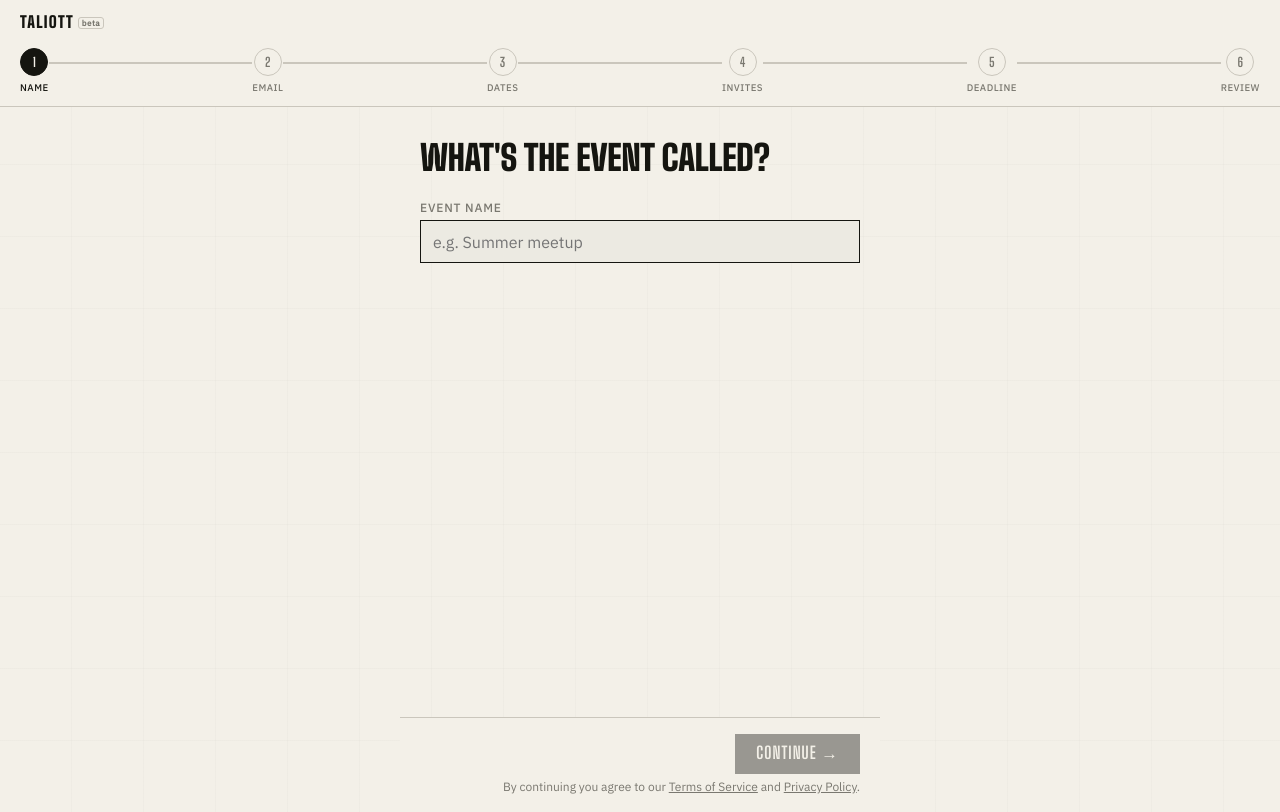
EventSetupForm › Continue is disabled until a valid email is entered on step 2
Type "Summer meetup" into the field labelled "Event name".
click(640, 242); type("Summer meetup")  # box [420, 220, 860, 263]
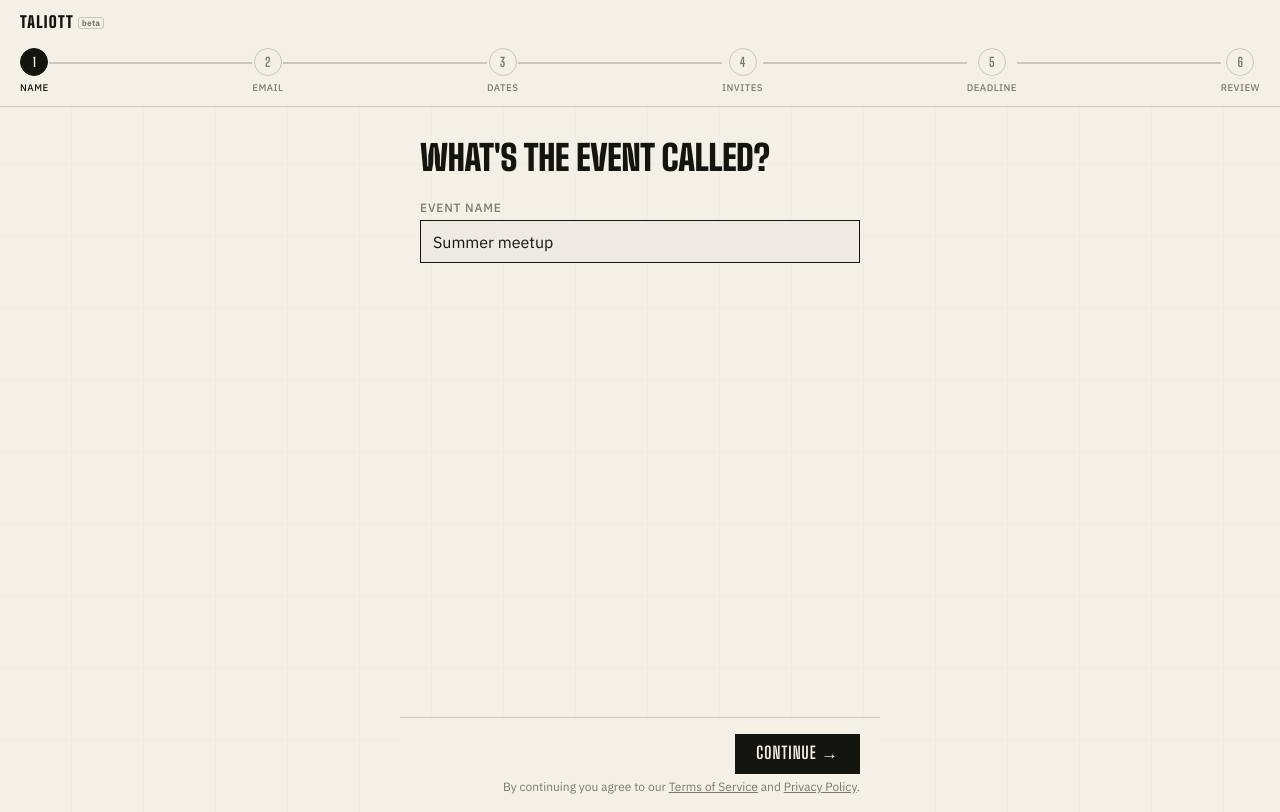
Click the button "Continue →".
click(798, 754)  # box [735, 734, 860, 774]
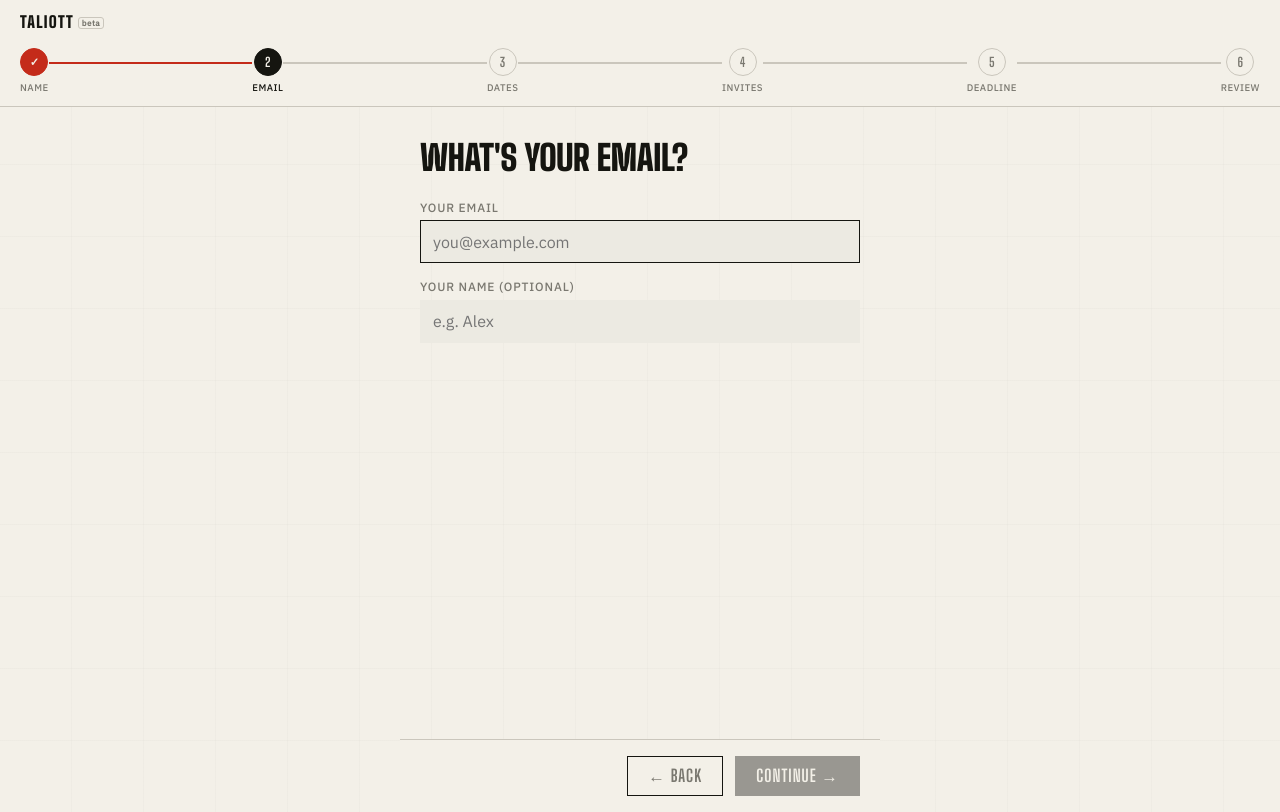
Now the button "Continue →" is disabled, box [735, 756, 860, 796]
Type "notanemail" into the field labelled "Your email".
click(640, 242); type("notanemail")  # box [420, 220, 860, 263]
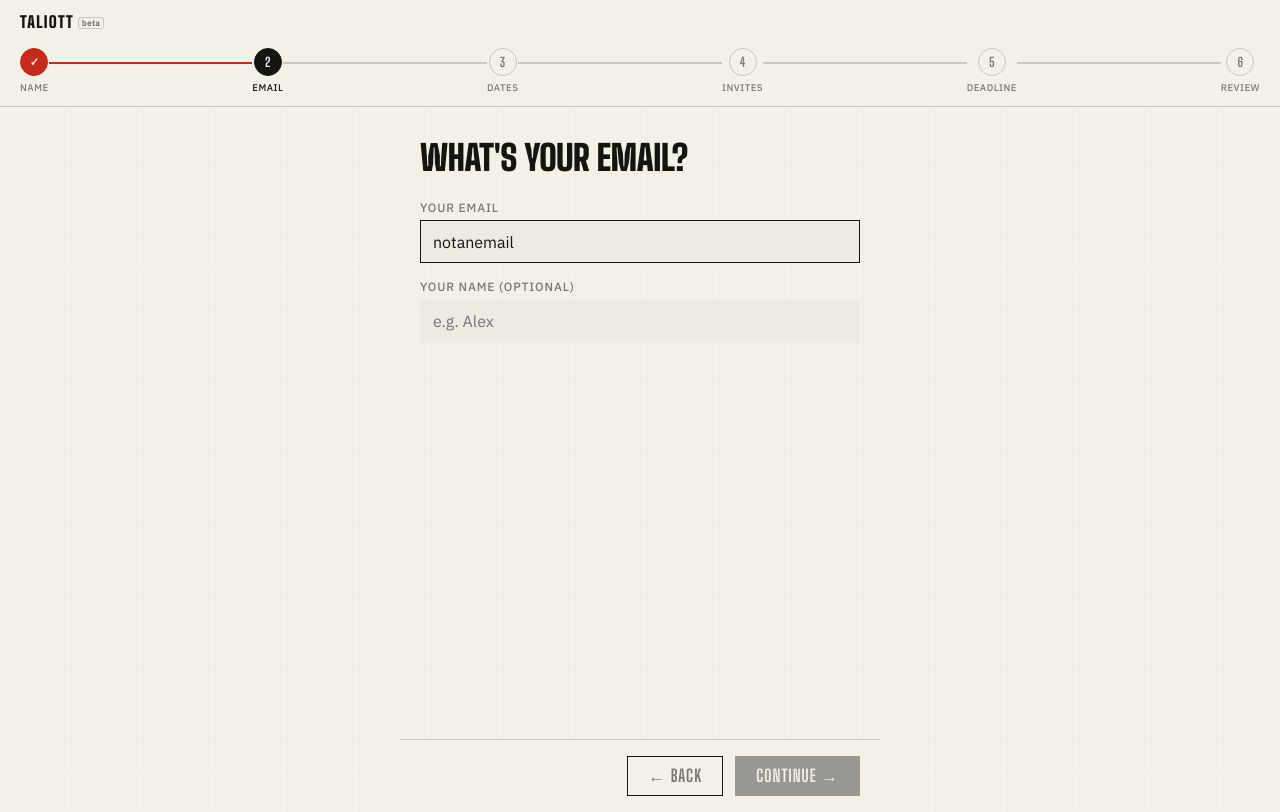
Now the button "Continue →" is disabled, box [735, 756, 860, 796]
Replace the text in the field labelled "Your email" with "valid@example.com" at [640, 242], box [420, 220, 860, 263]
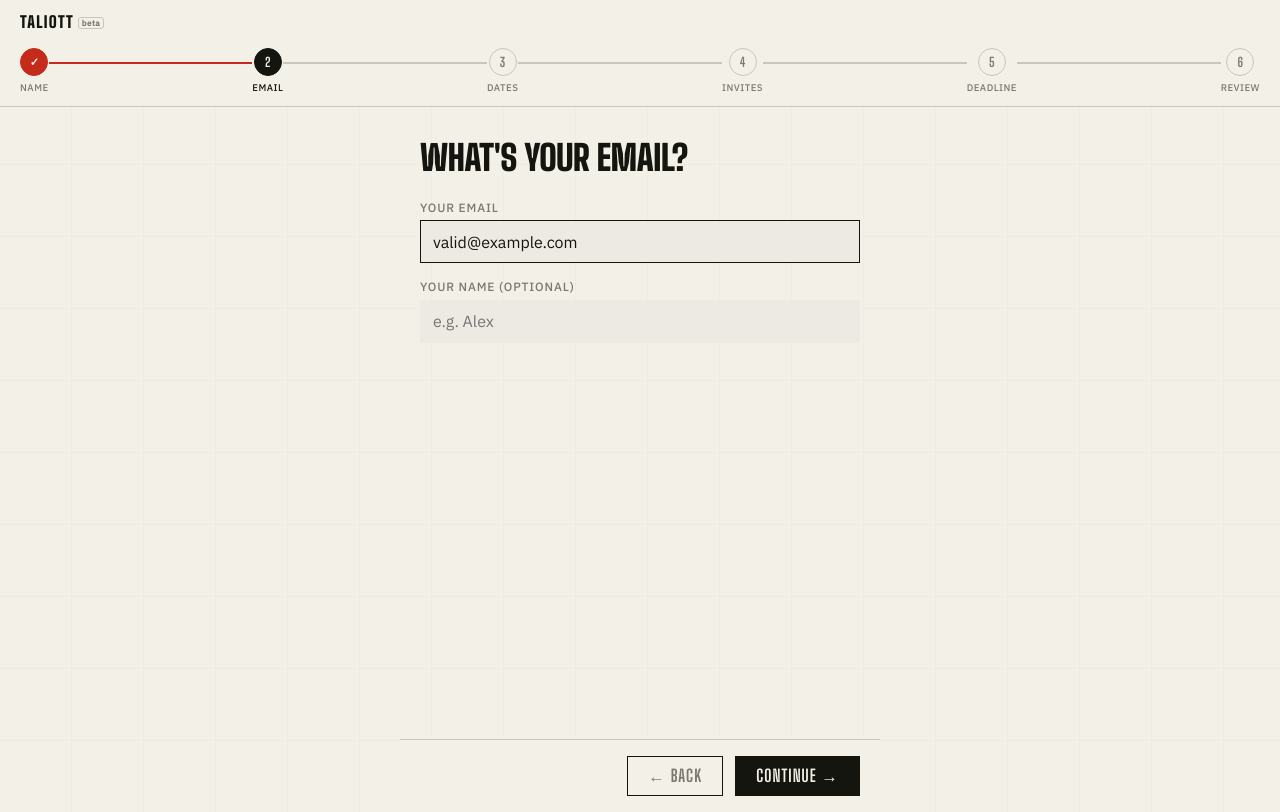
Now the button "Continue →" is enabled, box [735, 756, 860, 796]
